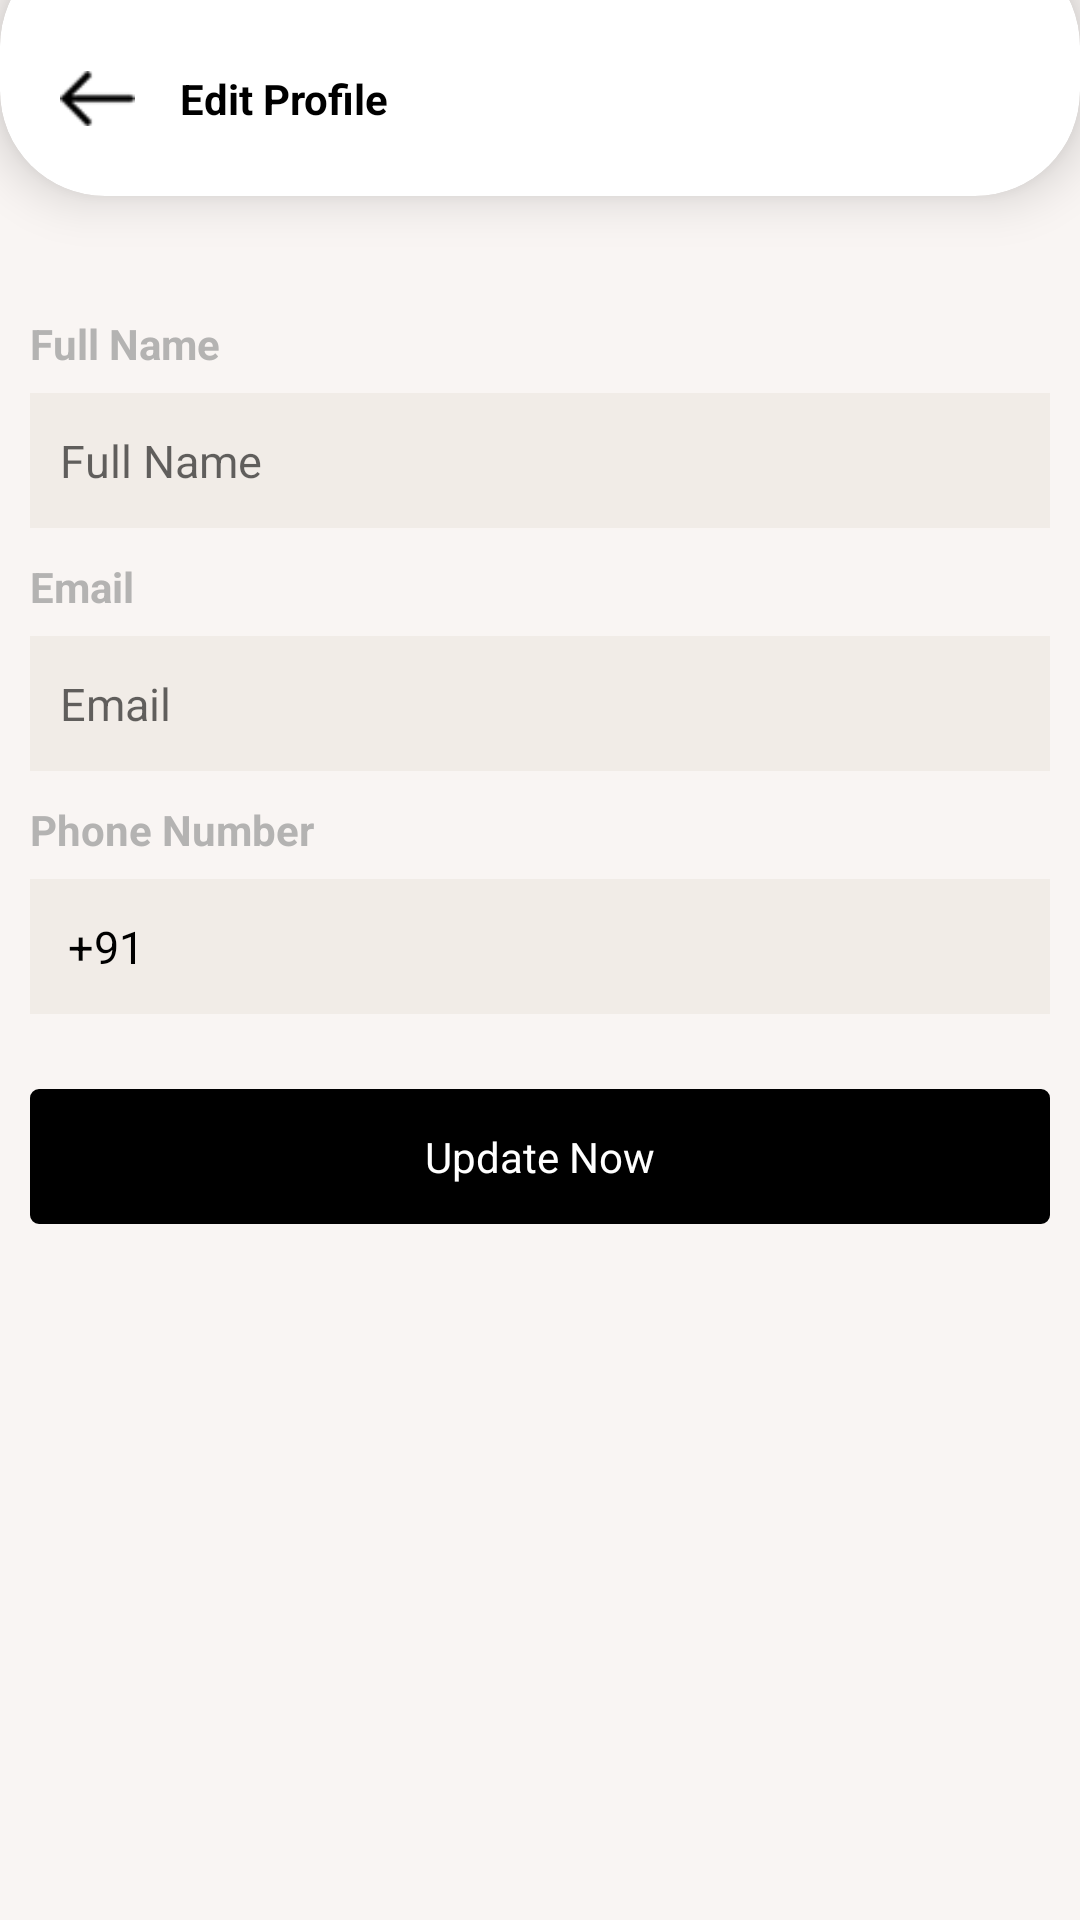

Locate icon controls on the screen. Image size 1080x1920, boxes as (x1, y1, x2, y2).
back: (60, 71, 135, 126)
